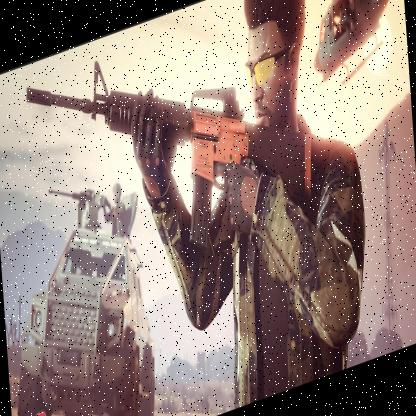rifle: (23, 0, 315, 323)
